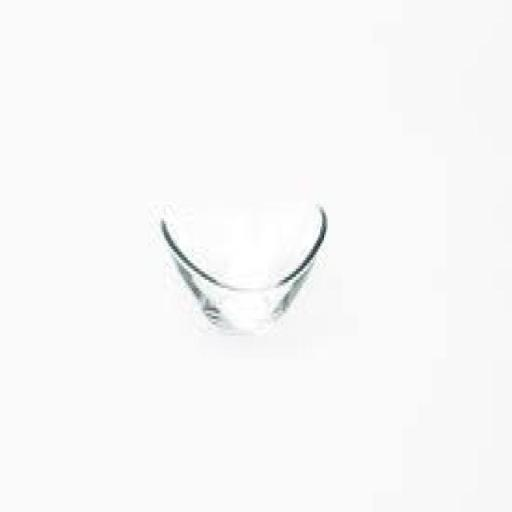glass: (146, 148, 342, 373)
